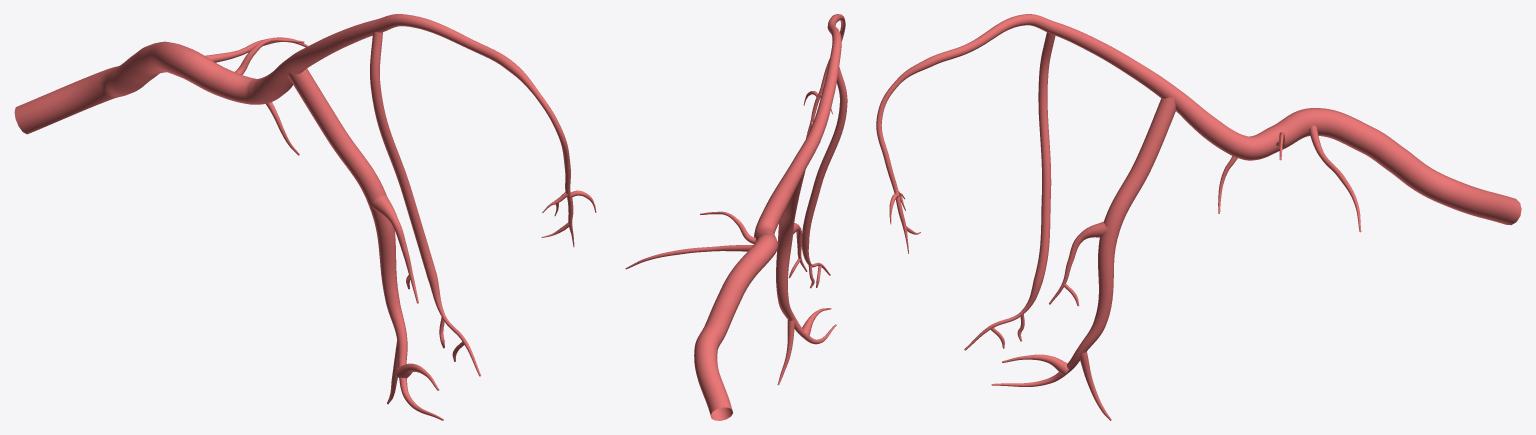
Rendered from Maxillary_artery.r_BezierCurve.264.glb.
3 renders of one model, left to right at view 1: azimuth 30°, elevation 25°; view 2: azimuth 150°, elevation 25°; view 3: azimuth 270°, elevation 25°, orthographic. The views are drawn at different scales.
Parts seen in each view (by area): view 1: Maxillary_artery.r_BezierCurve.264; view 2: Maxillary_artery.r_BezierCurve.264; view 3: Maxillary_artery.r_BezierCurve.264.
Part boxes in pixels (x1,y1,x2,y2): Maxillary_artery.r_BezierCurve.264: (14,14,596,420); Maxillary_artery.r_BezierCurve.264: (625,14,847,420); Maxillary_artery.r_BezierCurve.264: (876,14,1521,420).
Size of the model in its own units: 0.0275 by 0.0466 by 0.0694.
